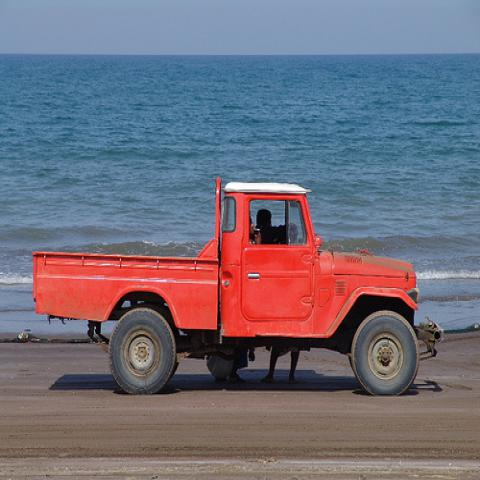truck: (33, 167, 442, 397)
